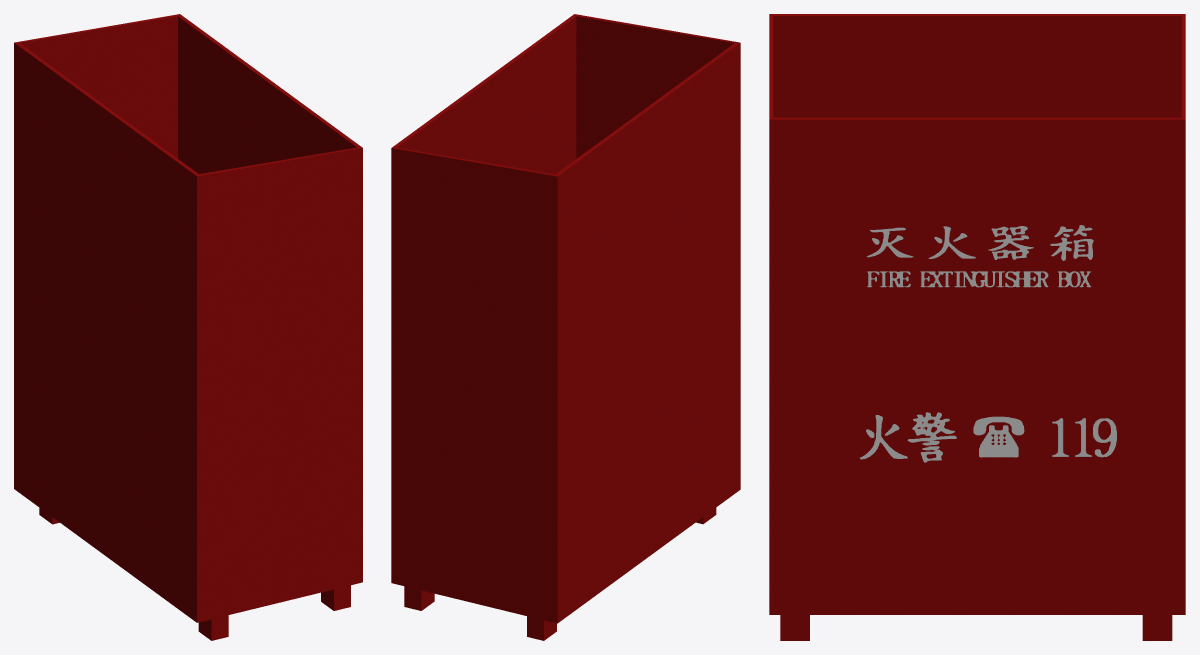
File: SM_灭火器箱.fbx
3 views of the same model, side by side, from view 1: azimuth 30°, elevation 25°; view 2: azimuth 150°, elevation 25°; view 3: azimuth 270°, elevation 25° (orthographic). The views are drawn at different scales.
Visible parts, largest first — view 1: SM_灭火器箱; view 2: SM_灭火器箱; view 3: SM_灭火器箱.
Boxes of the visible parts, box(x1,y1,x2,y2) form: SM_灭火器箱: box(14, 14, 362, 640); SM_灭火器箱: box(391, 14, 740, 640); SM_灭火器箱: box(769, 14, 1185, 640).
Bounding box in the file's own units: 0.1988 × 0.5278 × 0.3699.
